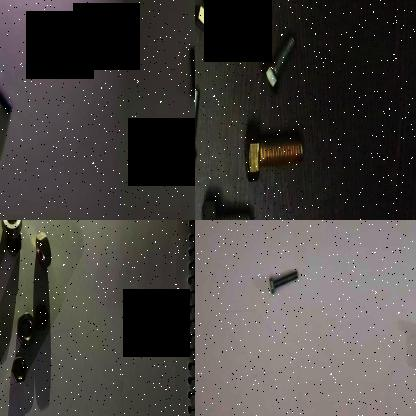Bolts: (235, 130, 311, 184), (256, 30, 300, 96), (195, 0, 231, 47), (195, 193, 256, 220), (264, 270, 303, 296), (195, 87, 207, 169), (0, 66, 14, 124), (186, 43, 195, 99)
NUTS: (15, 307, 37, 353), (29, 298, 53, 335), (34, 230, 52, 270), (8, 356, 30, 384), (5, 232, 24, 260), (0, 220, 22, 238)
